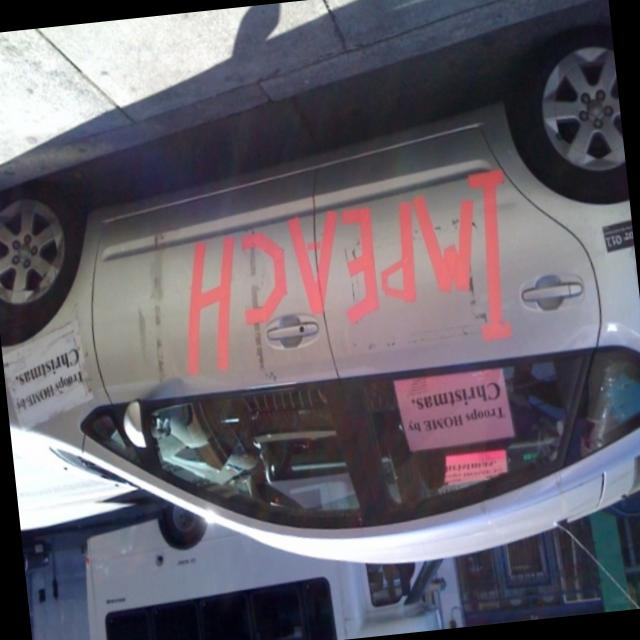bus: (78, 471, 450, 640)
